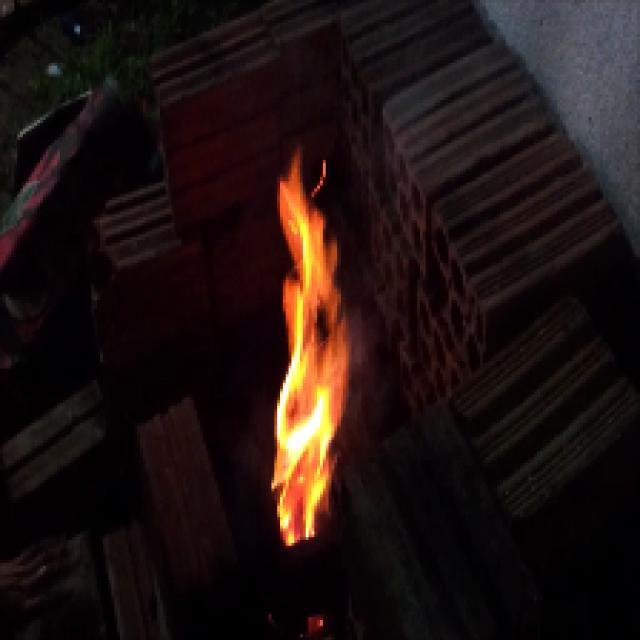Fire: (280, 160, 346, 534)
